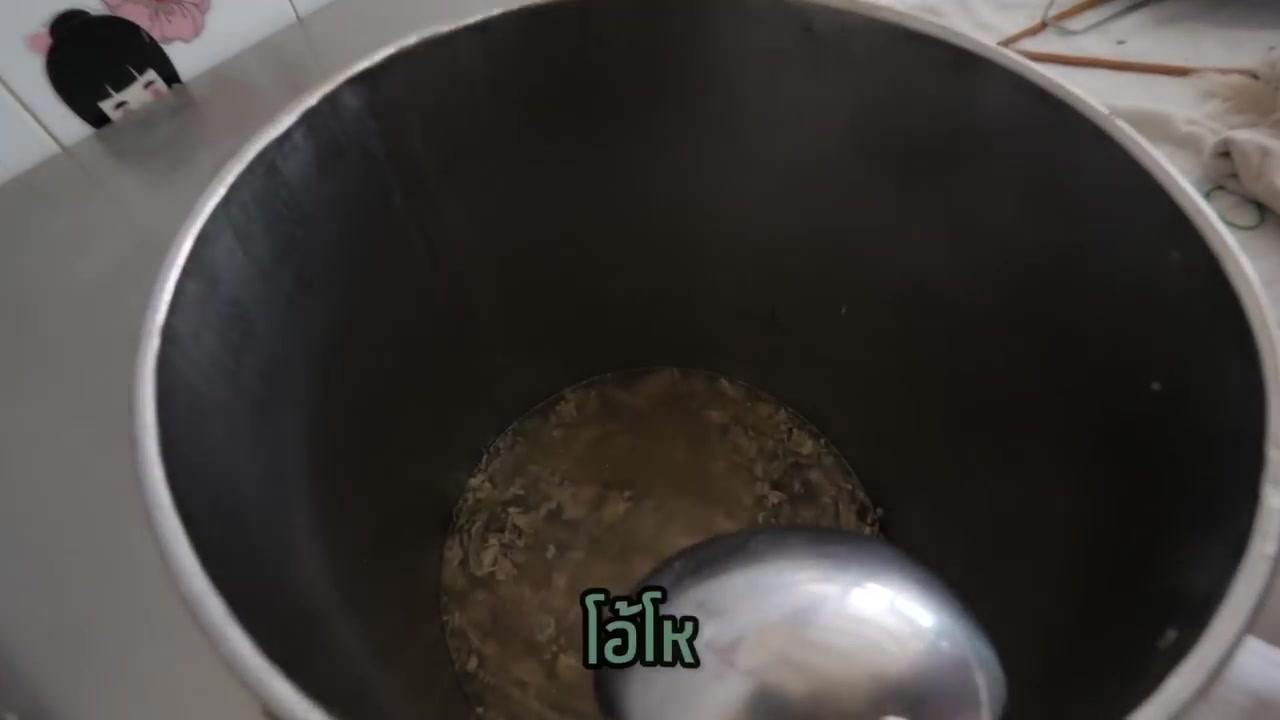text-label: (574, 587, 707, 673)
